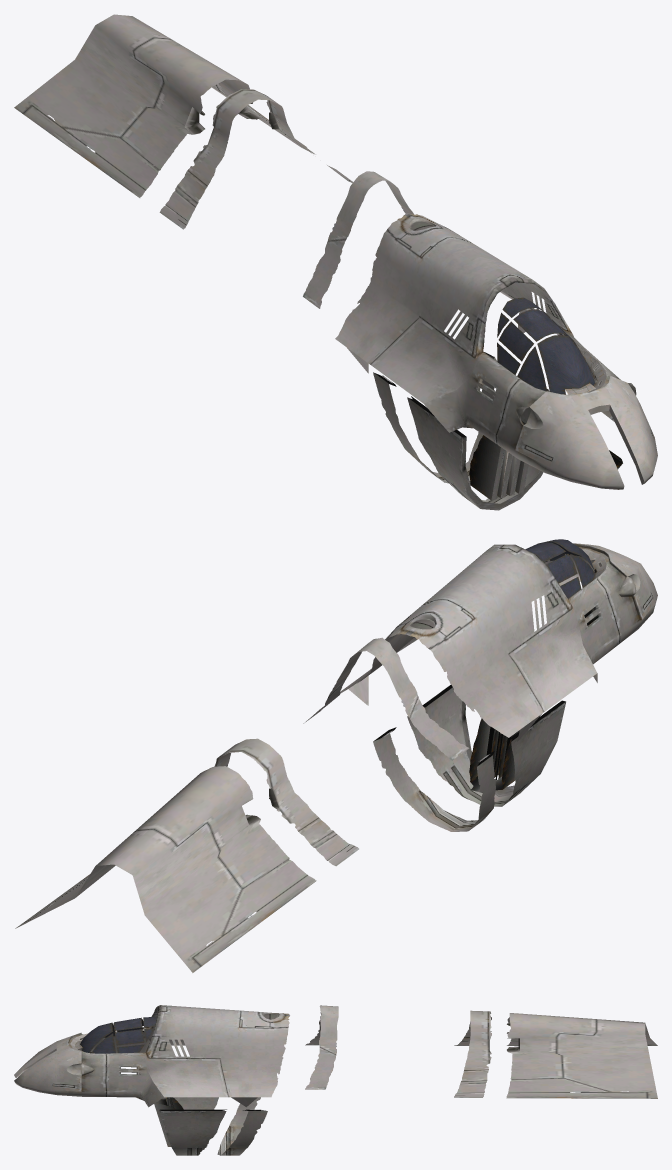
The model's file is hutt_fighter_medium_body_s02_l0.fbx.
The picture shows the model from 3 angles, top to bottom: view 1: azimuth 30°, elevation 25°; view 2: azimuth 150°, elevation 25°; view 3: azimuth 270°, elevation 25°; orthographic projection. The views are drawn at different scales.
Visible parts, largest first — view 1: mesh_node; view 2: mesh_node; view 3: mesh_node.
Part boxes in pixels (x1=…): mesh_node: x1=14, y1=14, x2=657, y2=510; mesh_node: x1=15, y1=539, x2=657, y2=972; mesh_node: x1=14, y1=1005, x2=657, y2=1155.
Bounding box in the file's own units: 5.11 × 6.72 × 26.25.
